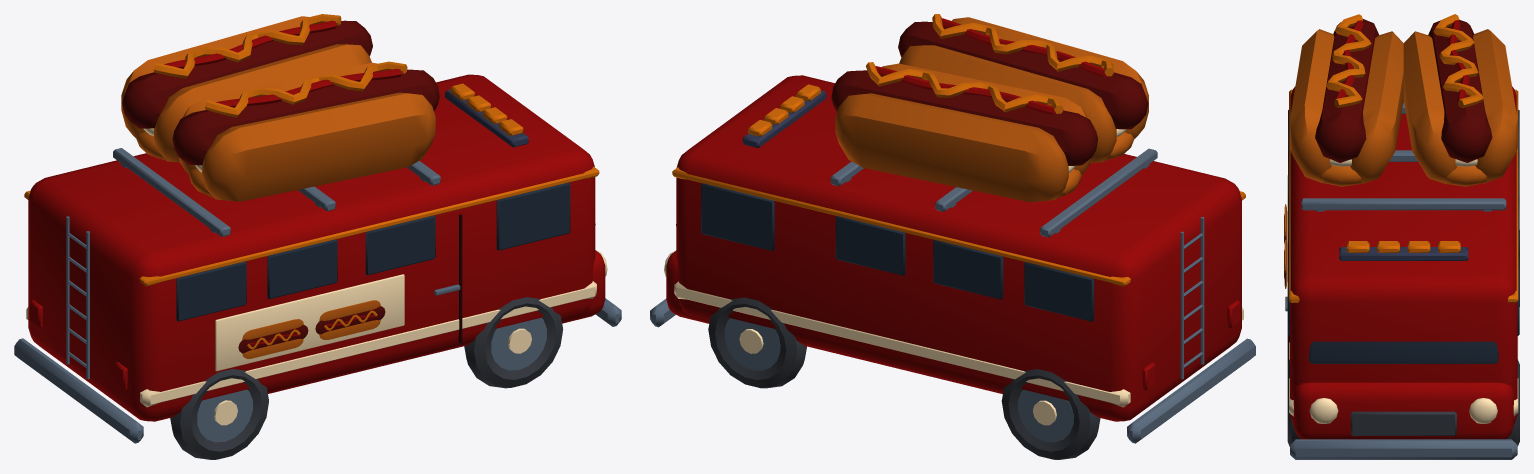
File: BigVan.obj
3 views of the same model, side by side, from view 1: azimuth 30°, elevation 25°; view 2: azimuth 150°, elevation 25°; view 3: azimuth 270°, elevation 25° (orthographic). The views are drawn at different scales.
Visible parts, largest first — view 1: BigVan; view 2: BigVan; view 3: BigVan.
Boxes of the visible parts, x1,y1,x2,y2 form: BigVan: [14, 14, 621, 459]; BigVan: [650, 14, 1255, 459]; BigVan: [1284, 14, 1519, 459].
Size of the model in its own units: 14.05 by 8.99 by 6.21.
